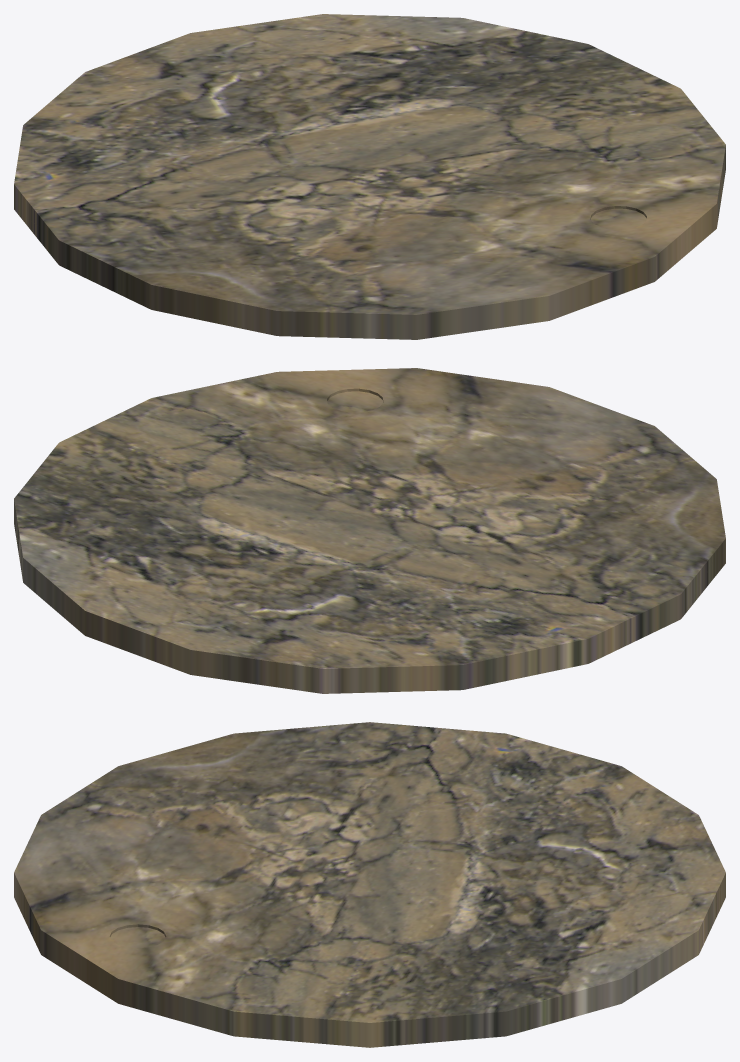
File: circulo_piedra2.FBX
The picture shows the model from 3 angles, top to bottom: view 1: azimuth 30°, elevation 25°; view 2: azimuth 150°, elevation 25°; view 3: azimuth 270°, elevation 25°; orthographic projection.
Parts seen in each view (by area): view 1: circulo_piedra001; view 2: circulo_piedra001; view 3: circulo_piedra001.
Boxes of the visible parts, left/top/right/bottom form: circulo_piedra001: left=14, top=14, right=725, bottom=339; circulo_piedra001: left=14, top=368, right=725, bottom=693; circulo_piedra001: left=14, top=722, right=725, bottom=1047.
Bounding box in the file's own units: 49.65 × 1.91 × 49.65.
